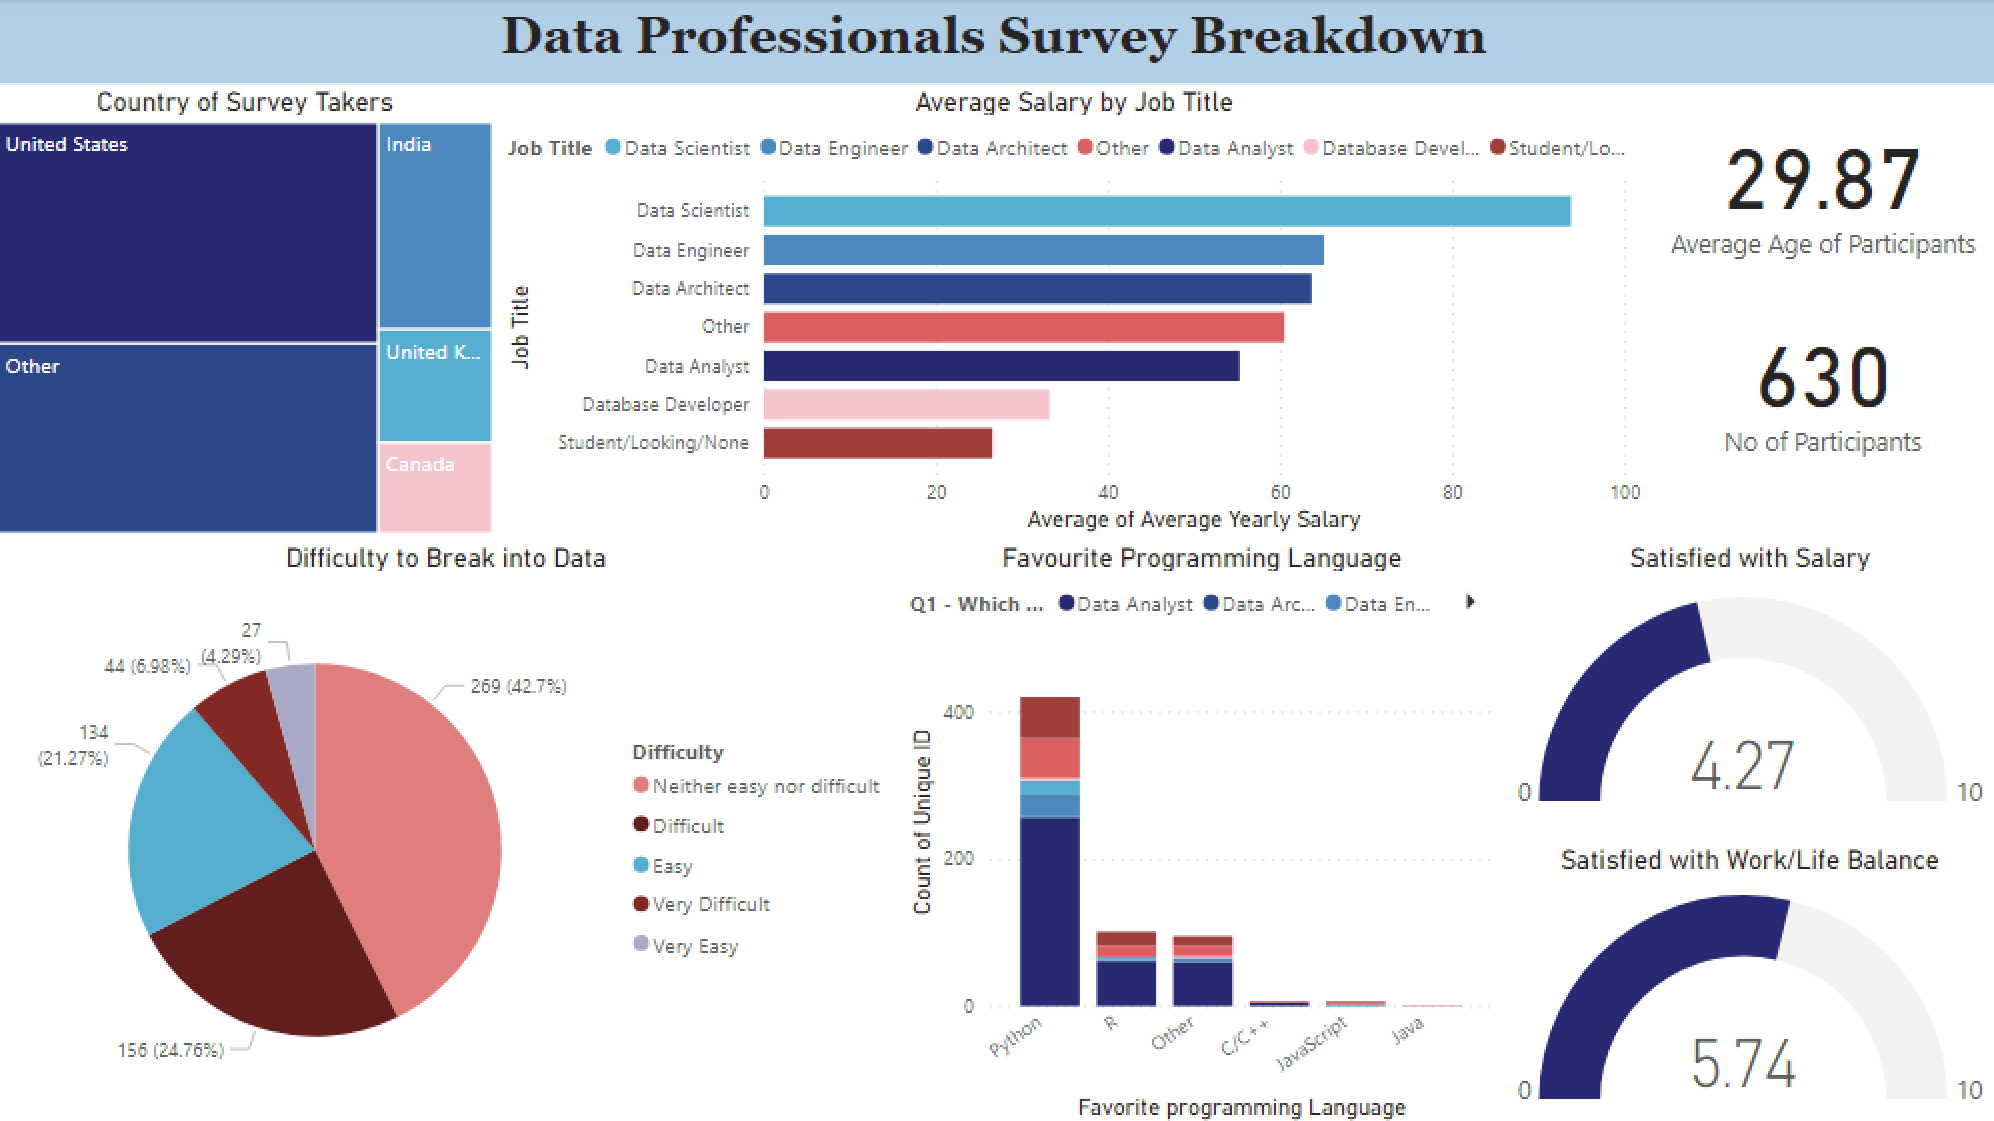

Layout of this report page (visuals, bound fields, positions):
{"tool":"powerbi","page":{"name":"Page 1","canvas":[1280,720],"ordinal":0},"visuals":[{"type":"textbox","box":[0,0,1280,54.3],"z":0},{"type":"card","fields":{"Values":["Count(Data Professional Survey.Unique ID)"]},"box":[1056.9,181,223.1,126.2],"z":1000},{"type":"card","fields":{"Values":["Avg(Data Professional Survey.Q10 - Current Age)"]},"box":[1056.9,54.8,223.1,126.2],"z":2000},{"type":"barChart","title":"Average Salary by Job Title","fields":{"Category":["Data Professional Survey.Q1 - Which Title Best Fits your Current Role?.1"],"Y":["Avg(Data Professional Survey.Average Yearly Salary)"],"Series":["Data Professional Survey.Q1 - Which Title Best Fits your Current Role?.1"]},"box":[325.1,54.8,731.8,290.7],"z":3000},{"type":"columnChart","title":"Favourite Programming Language","fields":{"Category":["Data Professional Survey.Q5 - Favorite Programming Language.1"],"Y":["CountNonNull(Data Professional Survey.Unique ID)"],"Series":["Data Professional Survey.Q1 - Which Title Best Fits your Current Role?.1"]},"box":[581.4,345.5,382.5,374.8],"z":4000},{"type":"treemap","title":"Country of Survey Takers","fields":{"Group":["Data Professional Survey.Q11 - Which Country do you live in?.1"],"Values":["CountNonNull(Data Professional Survey.Unique ID)"]},"box":[0,54.8,325.1,290.7],"z":4001},{"type":"gauge","title":"Satisfied with Work/Life Balance","fields":{"Y":["Avg(Data Professional Survey.Q6 - How Happy are you in your Current Position with the following? (Work/Life Balance))"],"MinValue":["Min(Data Professional Survey.Q6 - How Happy are you in your Current Position with the following? (Work/Life Balance))"],"MaxValue":["Max(Data Professional Survey.Q6 - How Happy are you in your Current Position with the following? (Work/Life Balance))"]},"box":[963.8,538,316.2,182.3],"z":4002},{"type":"gauge","title":"Satisfied with Salary","fields":{"Y":["Avg(Data Professional Survey.Q6 - How Happy are you in your Current Position with the following? (Salary))"],"MinValue":["Min(Data Professional Survey.Q6 - How Happy are you in your Current Position with the following? (Salary))"],"MaxValue":["Max(Data Professional Survey.Q6 - How Happy are you in your Current Position with the following? (Salary))"]},"box":[963.8,345.5,316.2,187.4],"z":4003},{"type":"pieChart","title":"Difficulty to Break into Data","fields":{"Category":["Data Professional Survey.Q7 - How difficult was it for you to break into Data?"],"Y":["CountNonNull(Data Professional Survey.Q7 - How difficult was it for you to break into Data?)"]},"box":[0,345.5,581.4,374.8],"z":4004}]}

Visuals, with their boxes in screenshot pixels (x1, y1, x2, y2), scaled from the page's 1280x720 canvas onto the 1994x1121 screenshot:
textbox: 0, 0, 1993, 85
card - Count(Data Professional Survey.Unique ID): 1646, 282, 1993, 478
card - Avg(Data Professional Survey.Q10 - Current Age): 1646, 85, 1993, 282
"Average Salary by Job Title" barChart: 506, 85, 1646, 538
"Favourite Programming Language" columnChart: 906, 538, 1502, 1120
"Country of Survey Takers" treemap: 0, 85, 506, 538
"Satisfied with Work/Life Balance" gauge: 1501, 838, 1993, 1120
"Satisfied with Salary" gauge: 1501, 538, 1993, 830
"Difficulty to Break into Data" pieChart: 0, 538, 906, 1120
